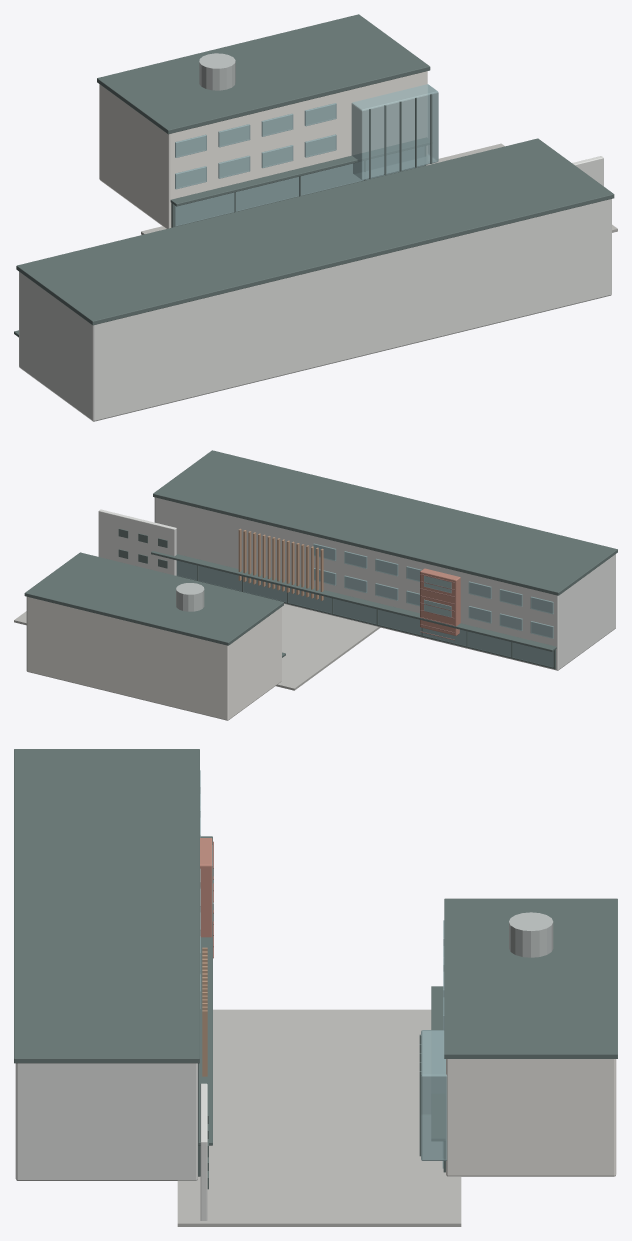
Rendered from xingfuli-east-massing-v2.glb.
3 renders of one model, top to bottom at view 1: azimuth 30°, elevation 25°; view 2: azimuth 150°, elevation 25°; view 3: azimuth 270°, elevation 25°, orthographic. The views are drawn at different scales.
Visible parts, largest first — view 1: xingfuli-east-massing-v2; view 2: xingfuli-east-massing-v2; view 3: xingfuli-east-massing-v2.
Boxes of the visible parts, x1,y1,x2,y2 form: xingfuli-east-massing-v2: [14, 14, 617, 421]; xingfuli-east-massing-v2: [14, 450, 617, 720]; xingfuli-east-massing-v2: [14, 749, 617, 1226].
Size of the model in its own units: 41.09 by 8.38 by 29.83.
